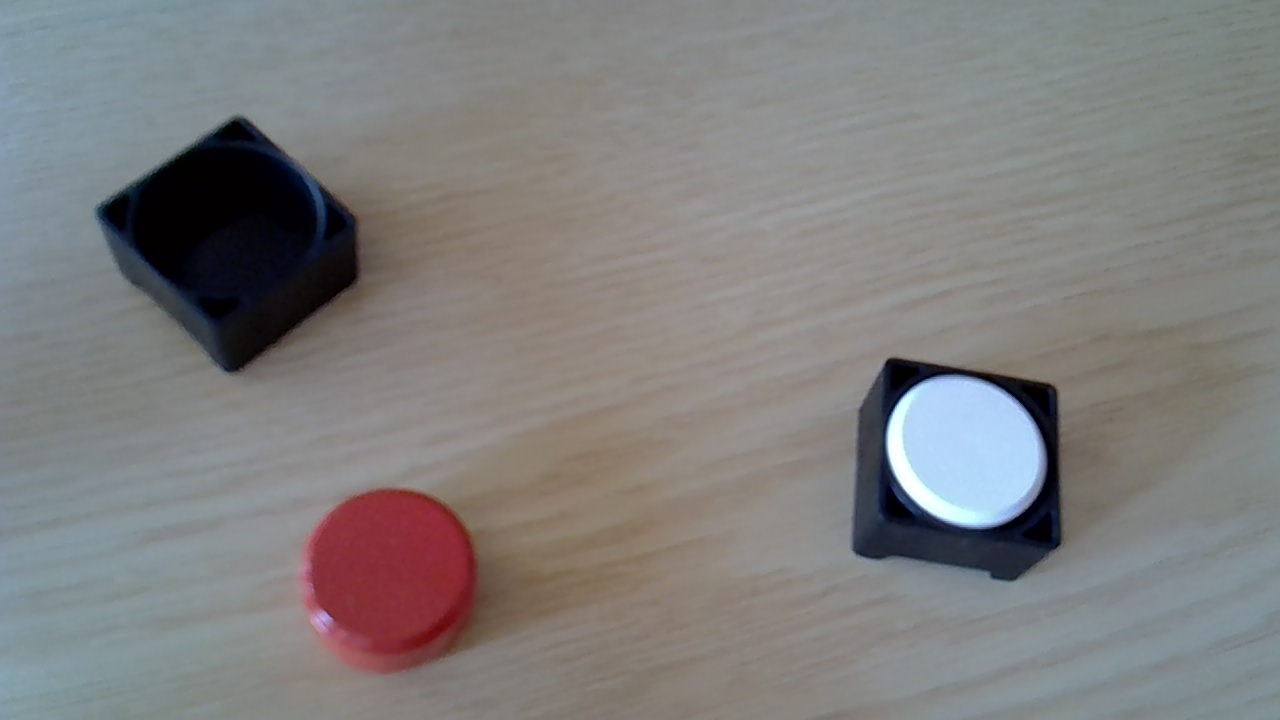Behaelter: (95, 112, 366, 370), (853, 353, 1065, 581)
WerkStueck: (299, 490, 475, 670), (887, 373, 1049, 531)
